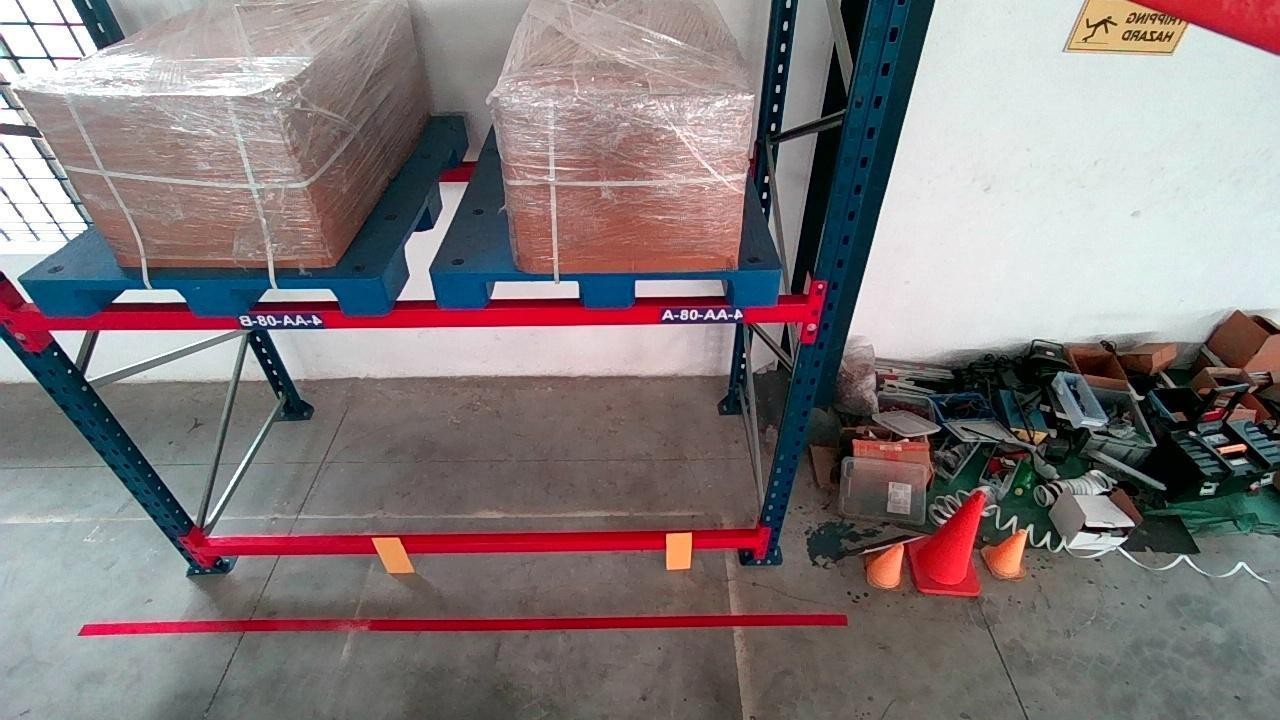h_rack: (25, 291, 806, 332), (200, 528, 755, 555)
orange_strip: (374, 536, 414, 572), (664, 531, 694, 567)
red_line: (78, 612, 845, 645)
small_pallet: (38, 276, 388, 316), (442, 270, 777, 308)
